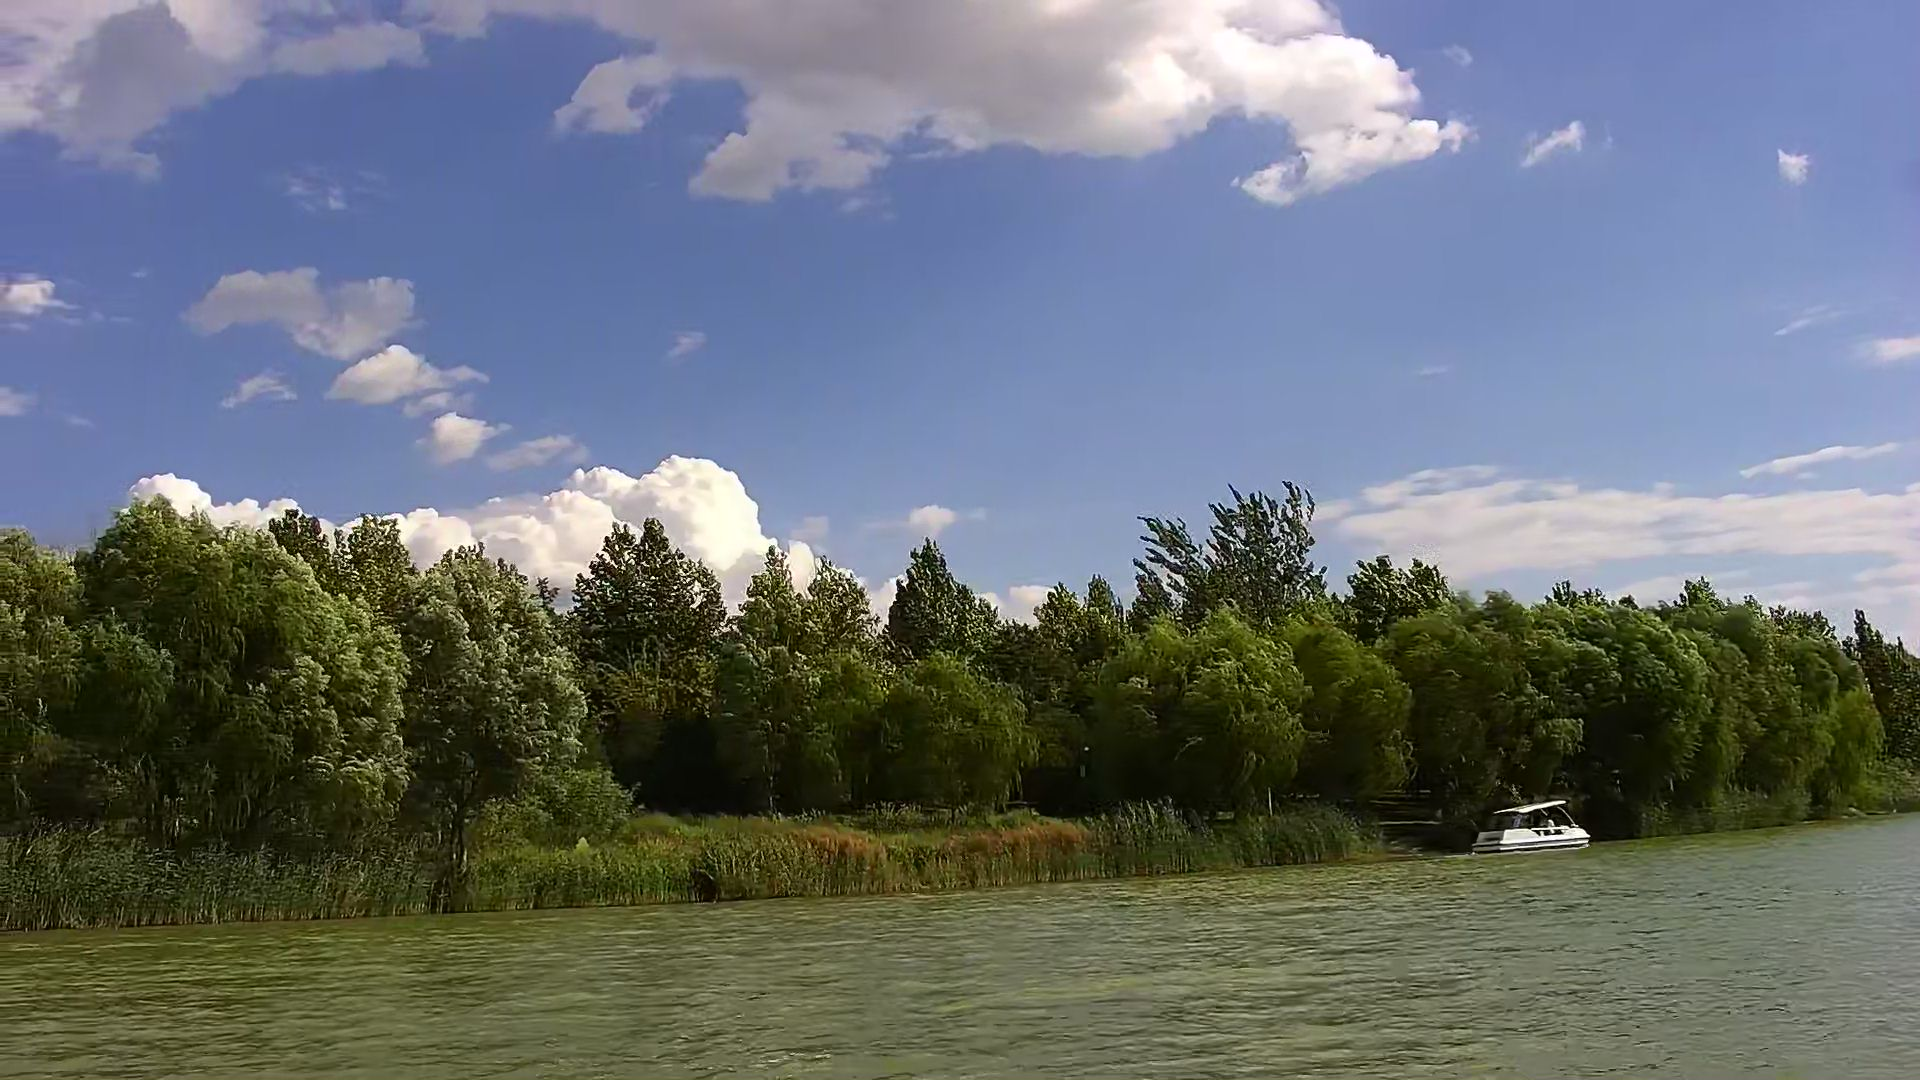boat: (1466, 798, 1592, 855)
